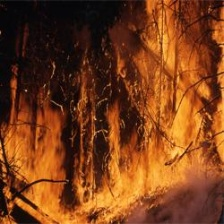fire: (1, 106, 224, 222), (146, 2, 223, 105)
